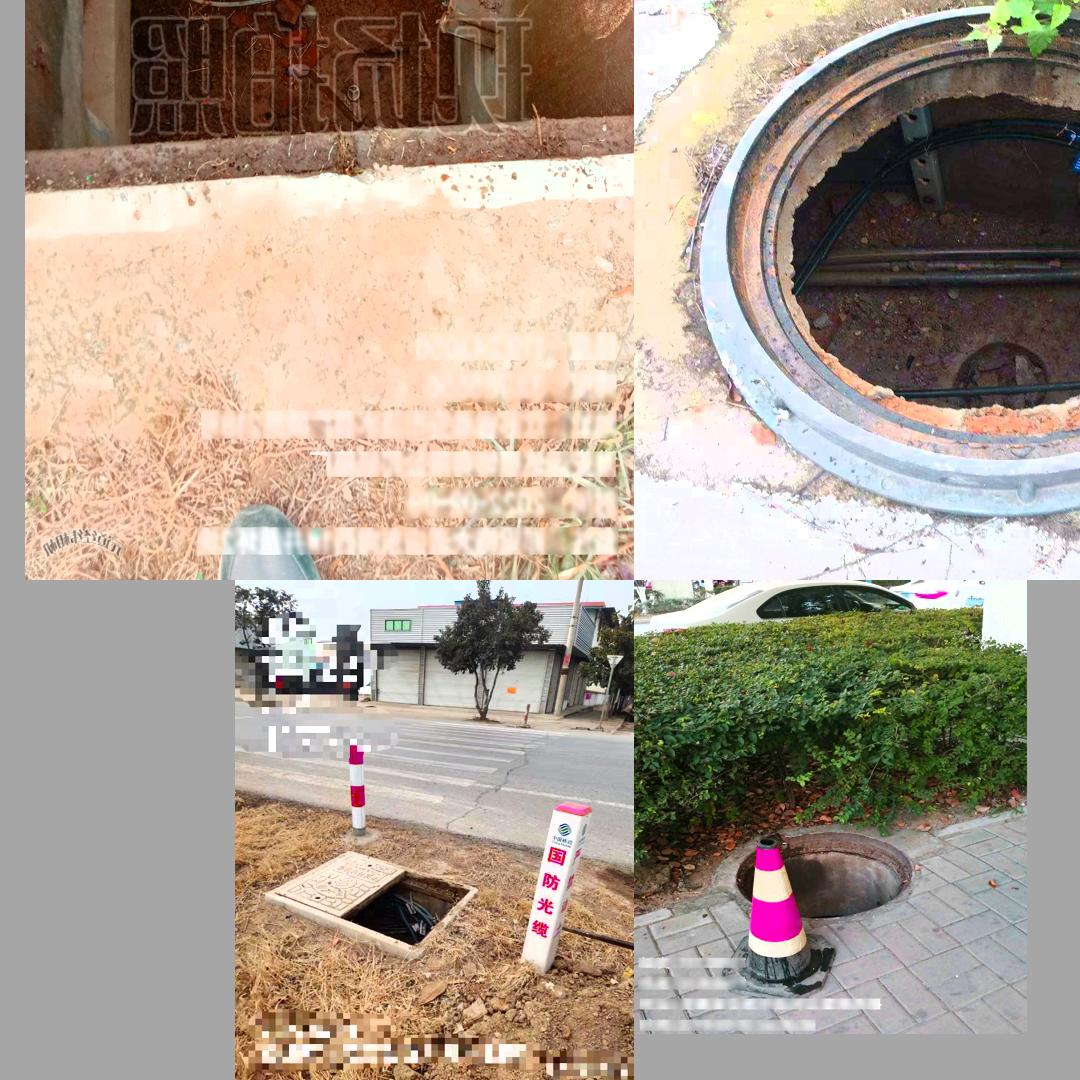lose: (706, 0, 1080, 507), (25, 0, 630, 192), (310, 840, 489, 956), (733, 832, 912, 920)
